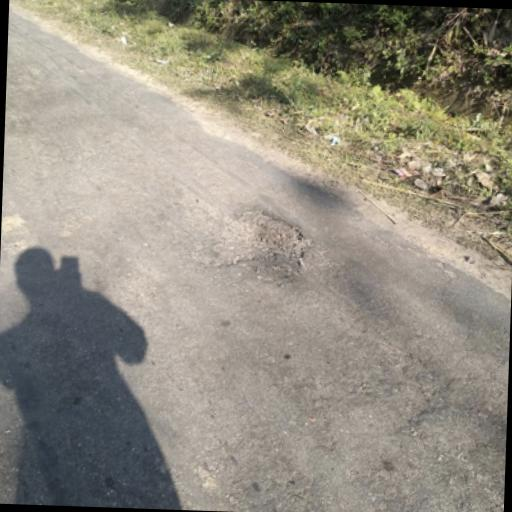pothole: (213, 204, 314, 274)
